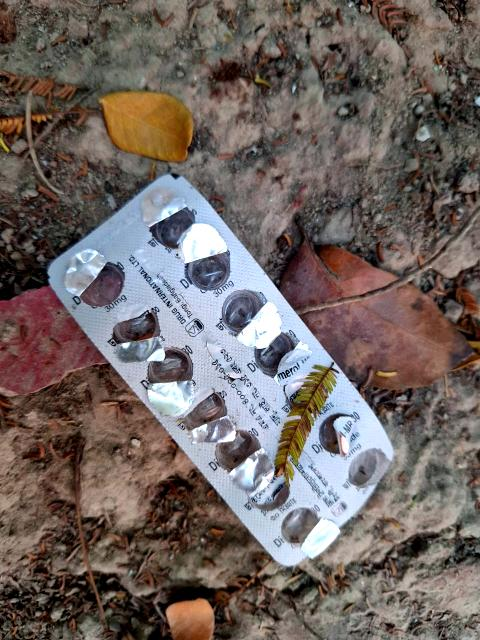medicine: (40, 158, 437, 594)
